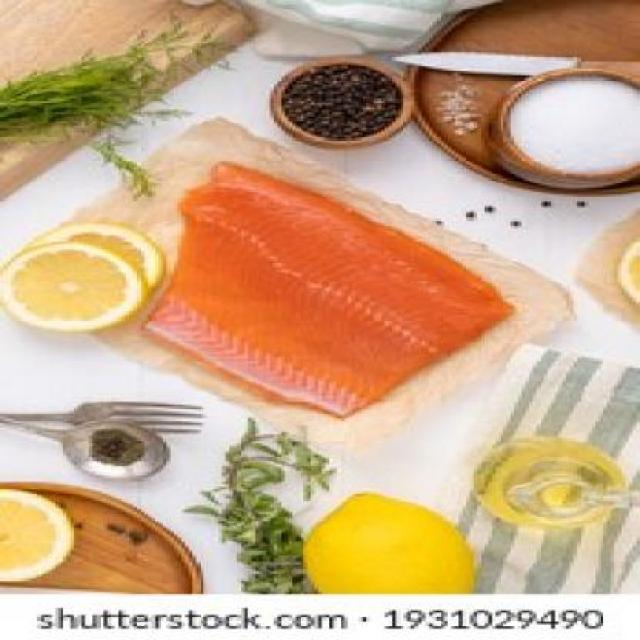salmon: (134, 146, 500, 409)
